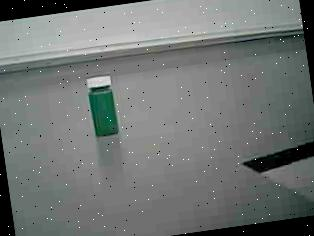Bottle C: (76, 70, 128, 147)
